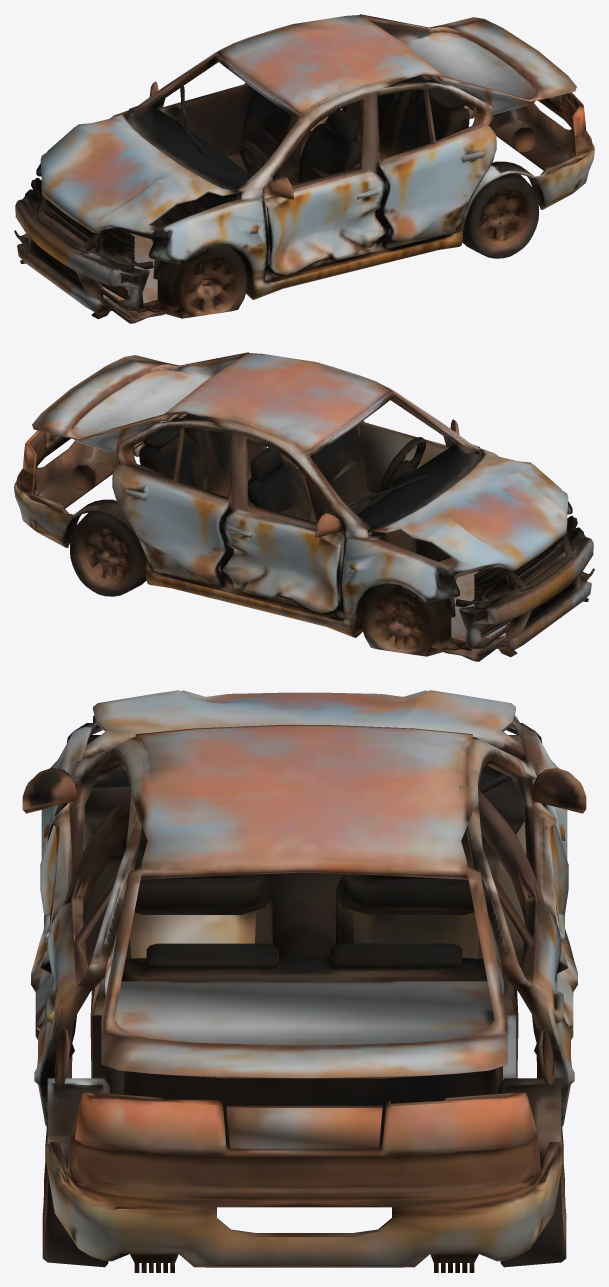
The model's file is rusty_crashed_car_15ba74d2_v1.glb.
3 renders of one model, top to bottom at view 1: azimuth 30°, elevation 25°; view 2: azimuth 150°, elevation 25°; view 3: azimuth 270°, elevation 25°, orthographic. The views are drawn at different scales.
Visible parts, largest first — view 1: material; view 2: material; view 3: material.
Boxes of the visible parts, left/top/right/bottom form: material: left=14, top=14, right=594, bottom=323; material: left=14, top=352, right=594, bottom=661; material: left=22, top=690, right=586, bottom=1272.
Size of the model in its own units: 1.9 by 0.6795 by 0.9236.
1 material, 1 textured.
